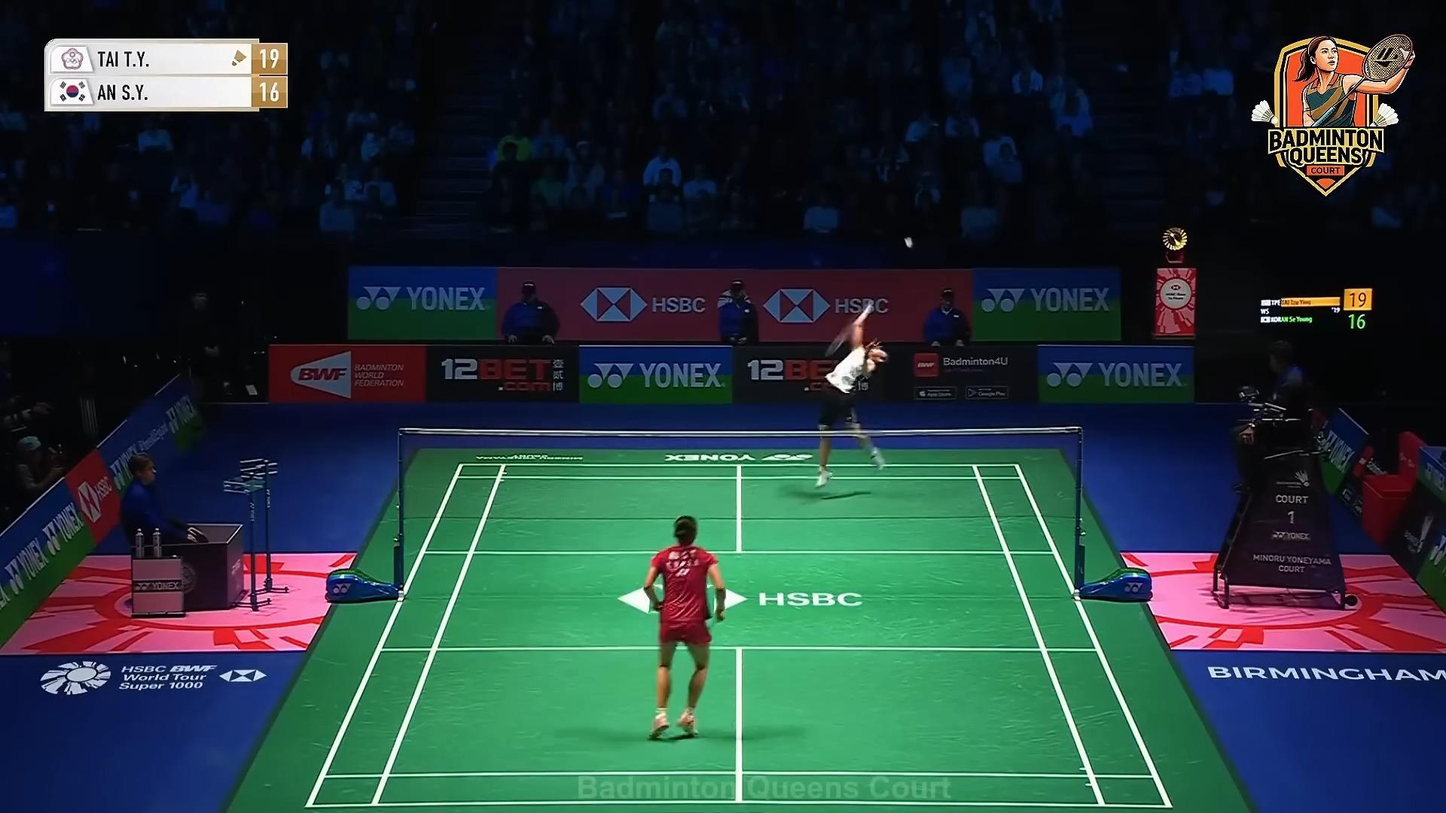player: (643, 515, 727, 741), (814, 299, 891, 492)
shuttlecock: (905, 236, 914, 248)
